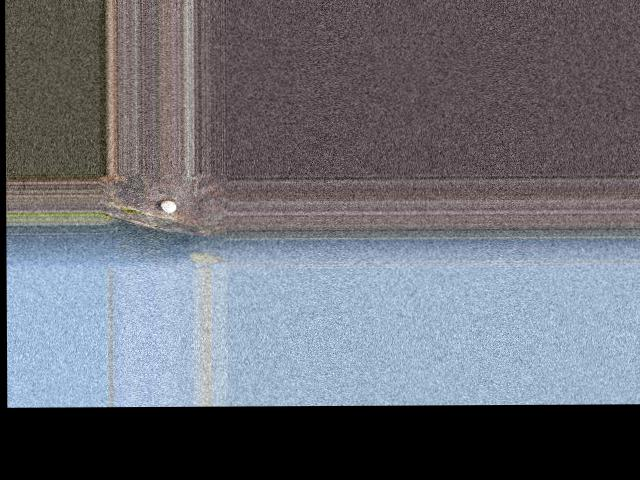egg: (161, 199, 177, 212)
